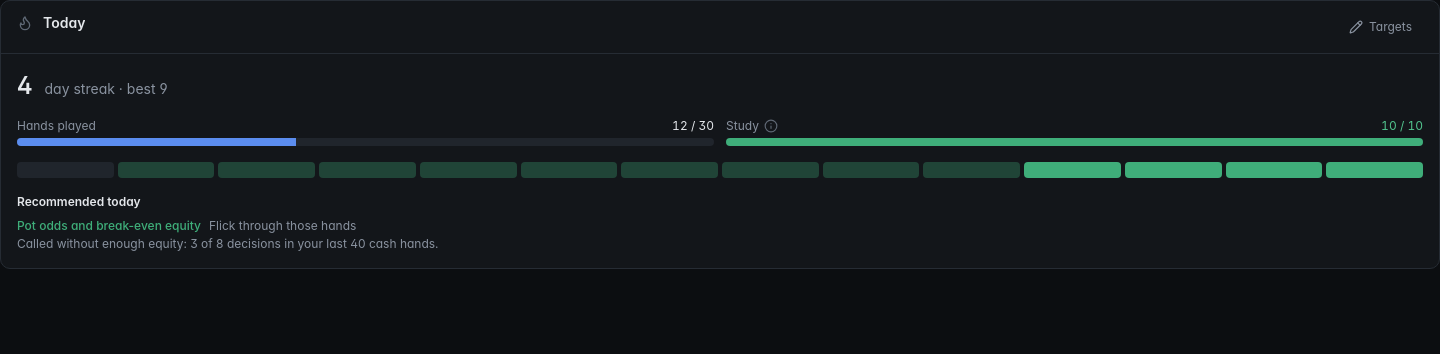
Test case: daily goals › edits the targets
Click the button "Targets".
click(1380, 27)  # box [1338,13,1423,41]
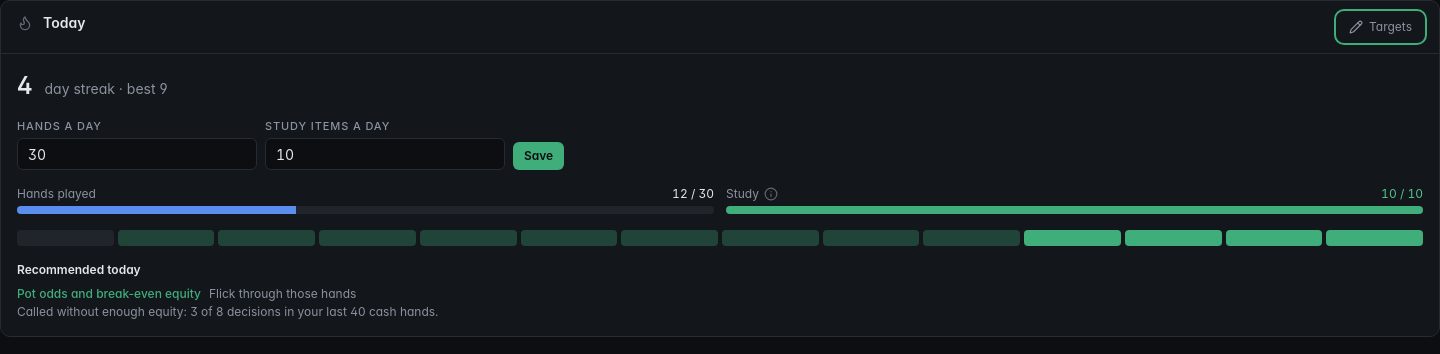
Replace the text in the field labelled "Hands a day" with "50" at (137, 154), box [17,138,257,170]
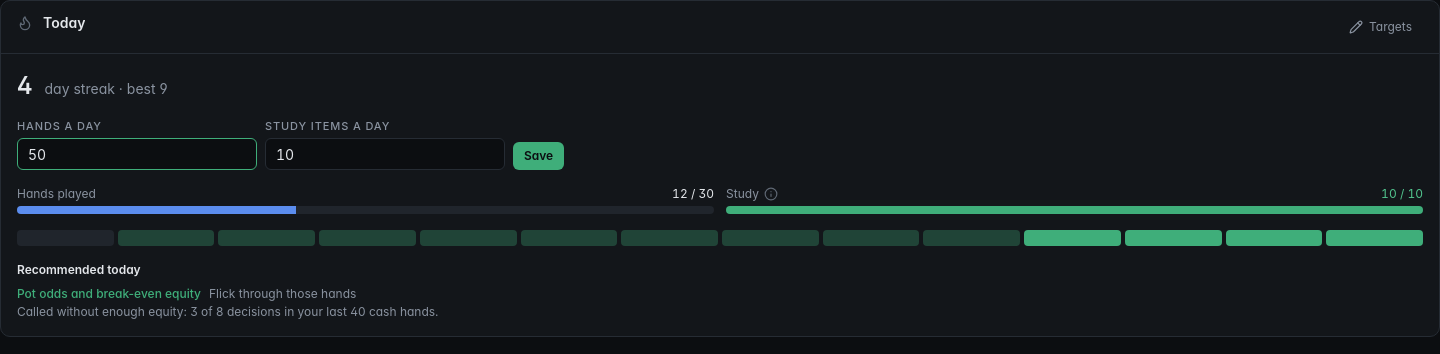
Replace the text in the field labelled "Study items a day" with "5" at (385, 154), box [265,138,505,170]
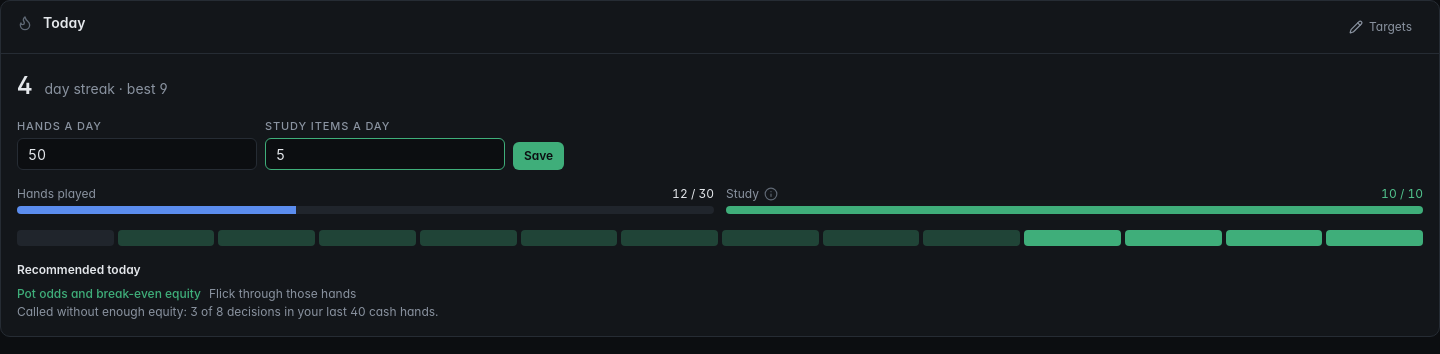
Click the button "Save".
click(539, 156)  # box [513,142,564,170]
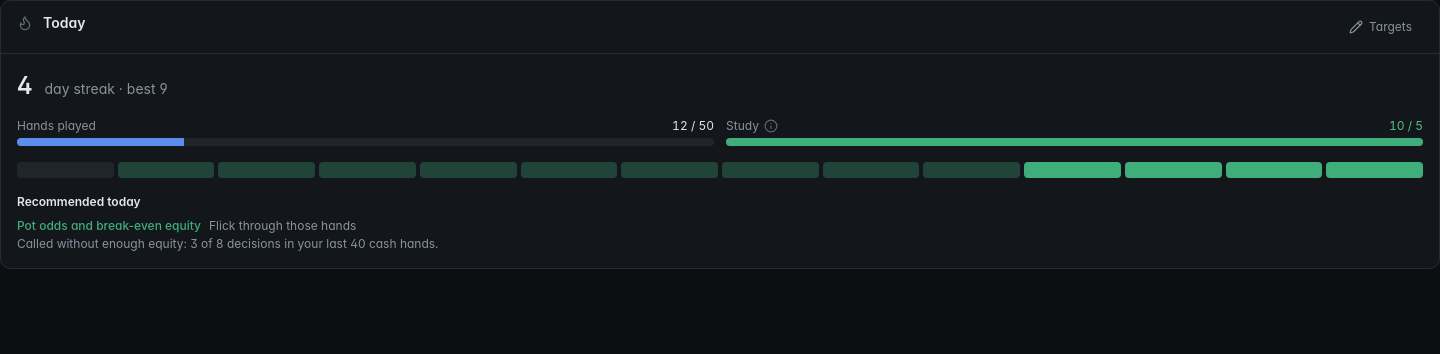
Expected: the text "12 / 50" is shown, [672,118,714,134]
